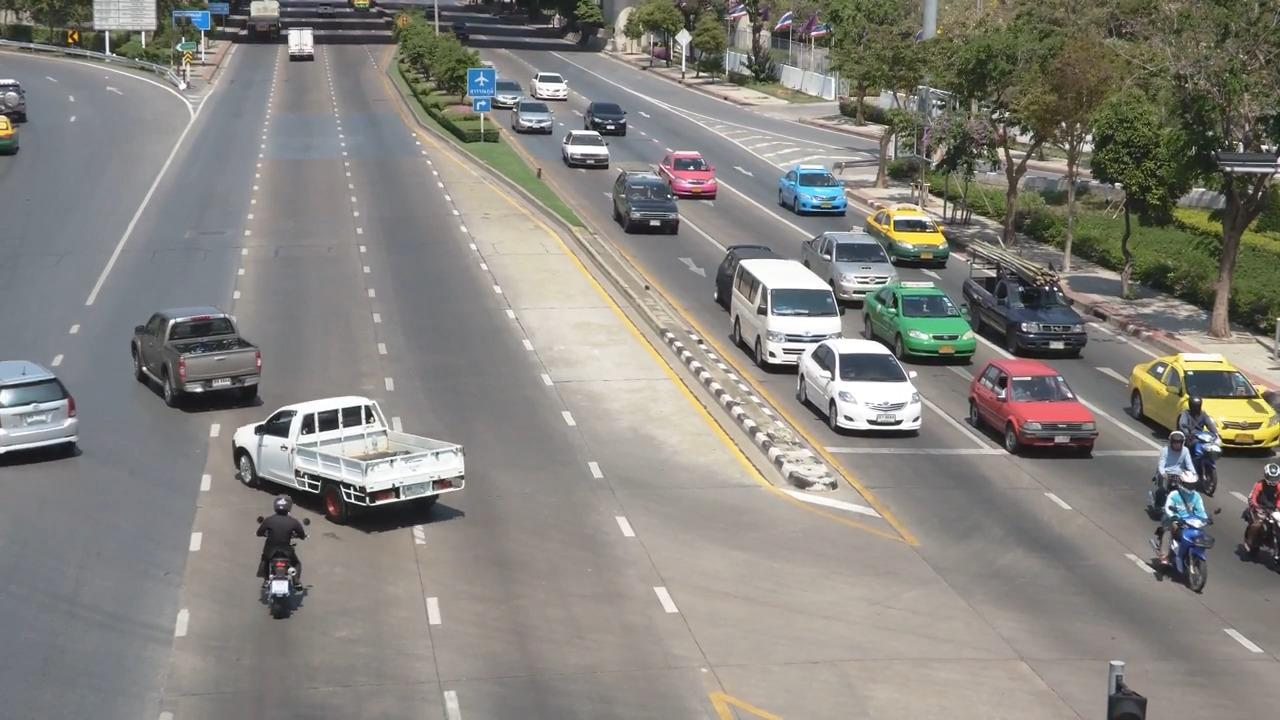CAR: (221, 377, 484, 521), (122, 300, 280, 416), (961, 244, 1102, 368), (965, 346, 1103, 462), (1139, 342, 1280, 454), (793, 331, 931, 438), (0, 348, 100, 483), (731, 251, 844, 370), (862, 276, 982, 369), (809, 224, 898, 296), (867, 193, 954, 266), (611, 166, 682, 235), (778, 158, 853, 222), (271, 13, 334, 78), (650, 150, 723, 205), (579, 95, 634, 145), (565, 124, 621, 168), (526, 58, 574, 99), (510, 95, 558, 135)
MOTOR: (240, 492, 335, 624), (1143, 466, 1221, 593), (1231, 466, 1280, 569), (1147, 425, 1195, 514), (1179, 395, 1225, 486)
